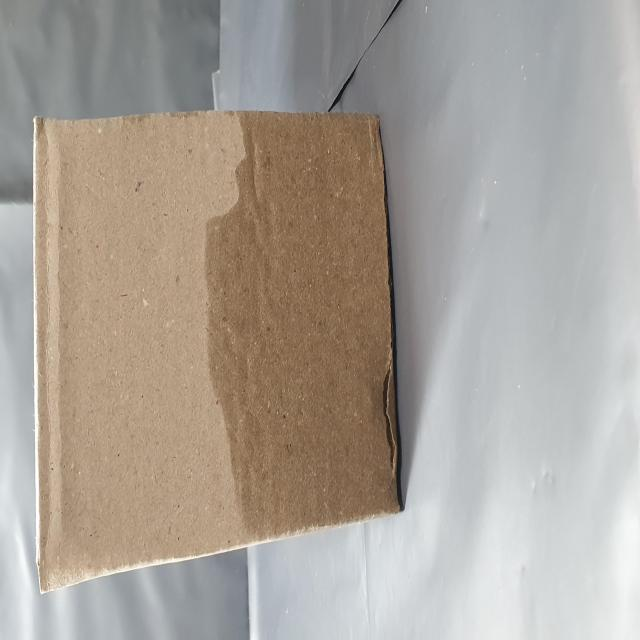wet: (50, 361, 297, 640)
